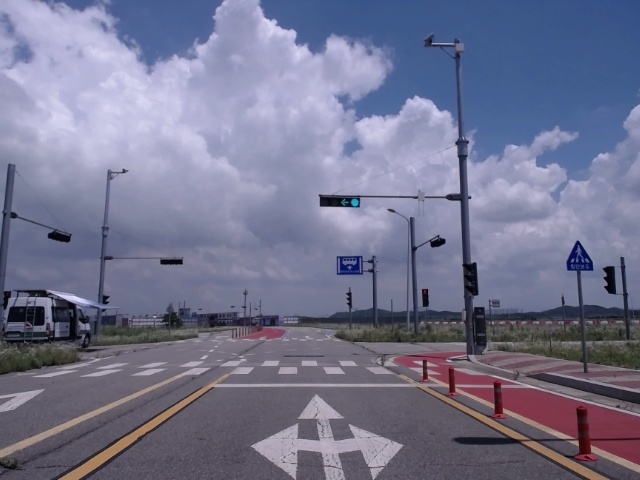all_green_4: (319, 193, 362, 210)
